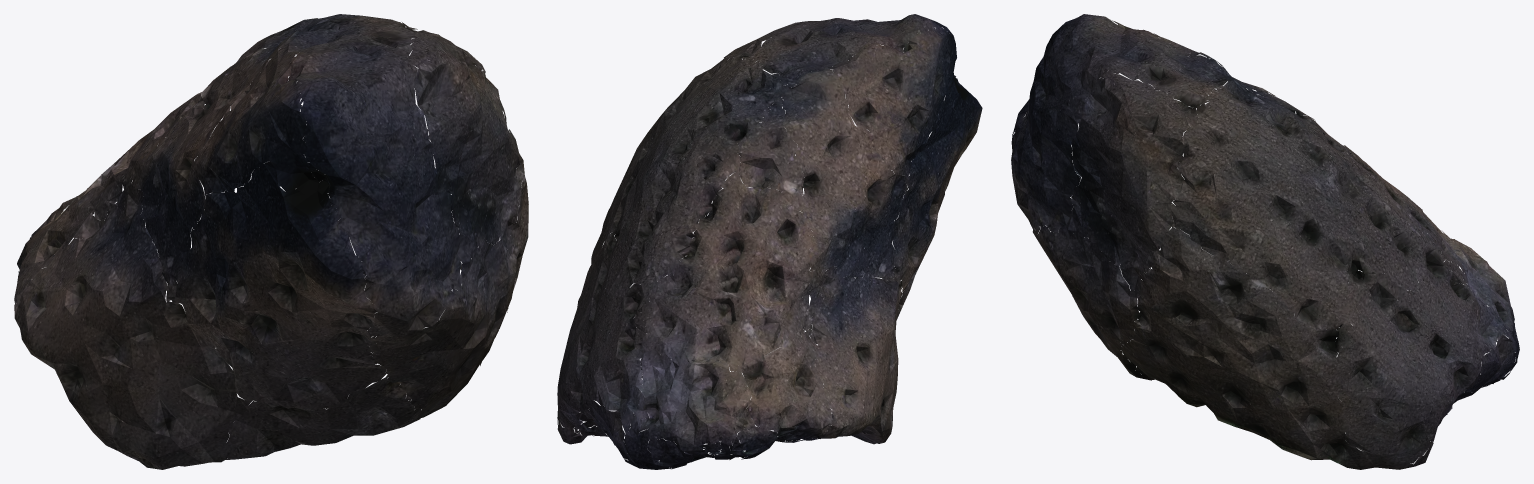
File: Objeto_08_4k-c.glb
3 views of the same model, side by side, from view 1: azimuth 30°, elevation 25°; view 2: azimuth 150°, elevation 25°; view 3: azimuth 270°, elevation 25° (orthographic). The views are drawn at different scales.
Visible parts, largest first — view 1: Mesh_0; view 2: Mesh_0; view 3: Mesh_0.
Part boxes in pixels (bbox=[...]): Mesh_0: bbox=[14, 14, 528, 469]; Mesh_0: bbox=[557, 14, 982, 469]; Mesh_0: bbox=[1011, 14, 1519, 469].
Bounding box in the file's own units: 0.0774 × 0.0852 × 0.1108.
Materials: 1 (1 with a texture image).
